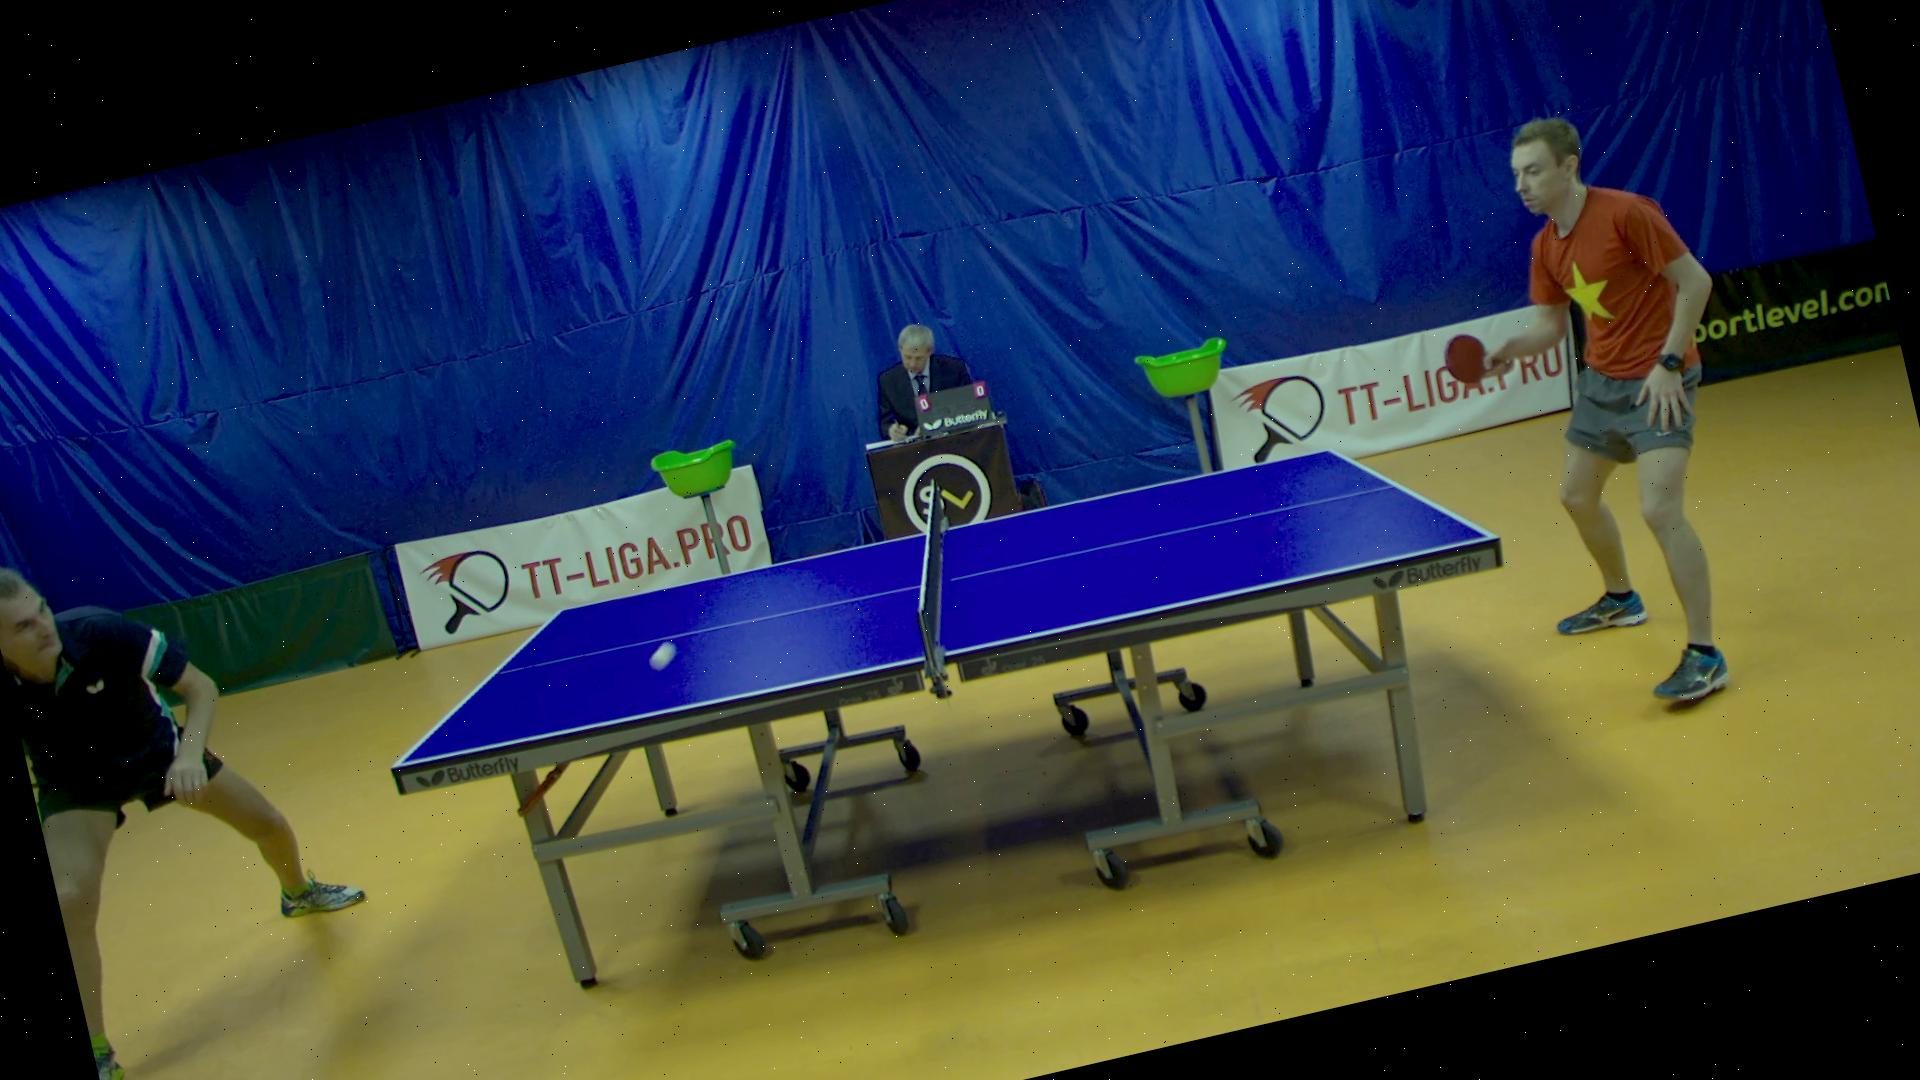ball: (641, 636, 684, 674)
